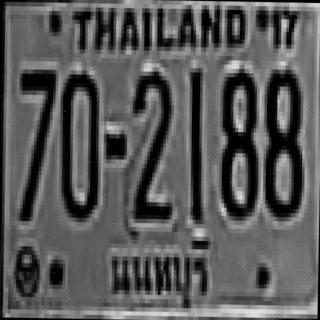N00: (58, 68, 97, 216)
N01: (187, 68, 203, 220)
N02: (129, 67, 171, 219)
N07: (17, 69, 53, 217)
N08: (218, 64, 257, 216), (262, 65, 301, 217)
P37: (102, 230, 215, 310)
